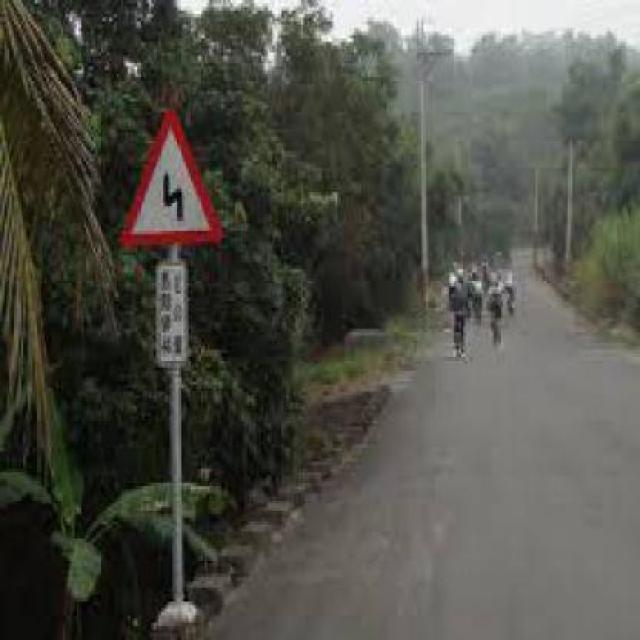warn_double_curve: (119, 105, 222, 245)
